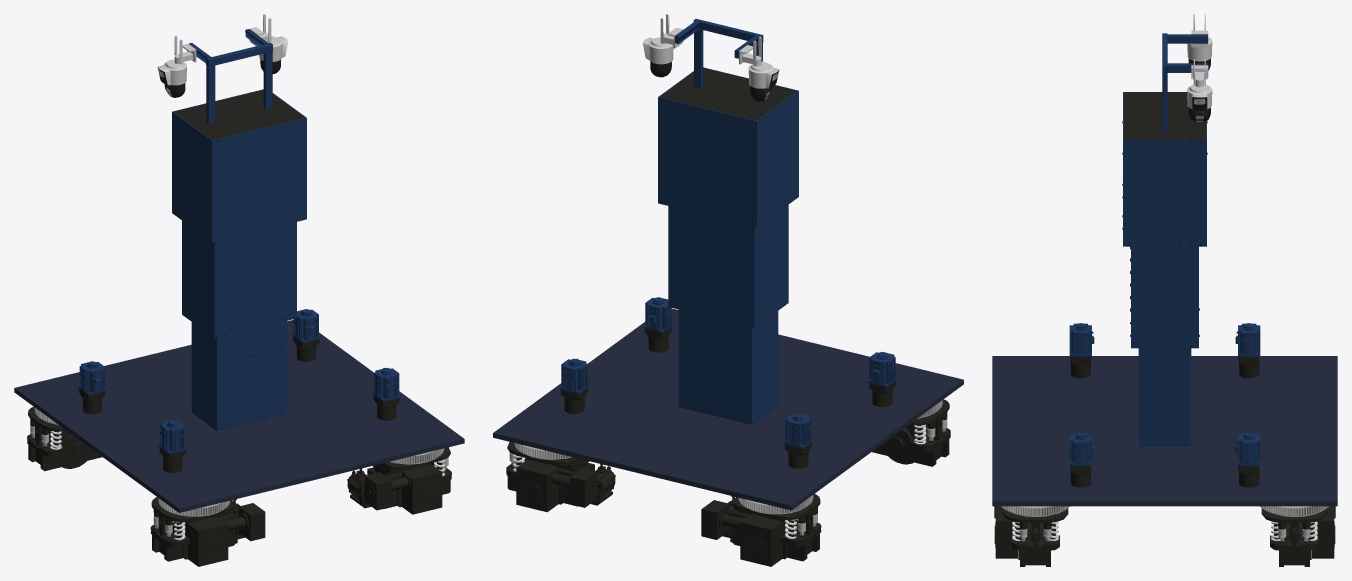
The model's file is mzz01-cq-explode.glb.
3 renders of one model, left to right at view 1: azimuth 30°, elevation 25°; view 2: azimuth 150°, elevation 25°; view 3: azimuth 270°, elevation 25°, orthographic. The views are drawn at different scales.
Visible parts, largest first — view 1: 底架_b20, MZZ01.CQ.02.03-13_纵向围板（顶节）_b1, MZZ01.CQ.02.02-25_横向围板（中间节）_b4, MZZ01.CQ.02.01-15_横向围板（底节）_b23, MZZ01.CQ.02.03-13_纵向围板（顶节）_b24, MZZ01.CQ.02.03-13_纵向围板（顶节）_b3, MZZ01.CQ.02.02-25_横向围板（中间节）_b1, MZZ01.CQ.02.01-15_横向围板（底节）_b3, 摄像头 (1)_b14, 镜向镜向减震舵轮装配体_b158, 镜向减震舵轮装配体_b158, 镜向减震舵轮装配体_b159 (+3 smaller); view 2: 底架_b20, MZZ01.CQ.02.03-13_纵向围板（顶节）_b2, MZZ01.CQ.02.02-26_纵向围板（中间节）_b1, MZZ01.CQ.02.01-5_中层板（底节箱体）_b1, MZZ01.CQ.02.03-13_纵向围板（顶节）_b24, MZZ01.CQ.02.02-25_横向围板（中间节）_b1, MZZ01.CQ.02.03-13_纵向围板（顶节）_b3, MZZ01.CQ.02.01-15_横向围板（底节）_b3, 镜向减震舵轮装配体#2_b158, 减震舵轮装配体_b156, 摄像头 (1)_b14, 减震舵轮装配体_b157 (+4 smaller); view 3: 底架_b20, MZZ01.CQ.02.03-13_纵向围板（顶节）#2_b21, MZZ01.CQ.02.02-26_纵向围板（中间节）_b3, MZZ01.CQ.02.01-15_横向围板（底节）_b2, MZZ01.CQ.02.03-13_纵向围板（顶节）_b3, 摄像头 (1)_b14, 减震舵轮装配体_b156, 镜向减震舵轮装配体_b158, 减震舵轮装配体_b158, 镜向减震舵轮装配体_b160, 减震舵轮装配体_b173, 镜向减震舵轮装配体_b175 (+4 smaller).
Boxes of the visible parts, x1,y1,x2,y2 form: 底架_b20: [14, 320, 464, 512]; MZZ01.CQ.02.03-13_纵向围板（顶节）_b1: [211, 117, 306, 241]; MZZ01.CQ.02.02-25_横向围板（中间节）_b4: [214, 222, 296, 338]; MZZ01.CQ.02.01-15_横向围板（底节）_b23: [216, 321, 287, 430]; MZZ01.CQ.02.03-13_纵向围板（顶节）_b24: [172, 111, 212, 242]; MZZ01.CQ.02.03-13_纵向围板（顶节）_b3: [174, 90, 304, 140]; MZZ01.CQ.02.02-25_横向围板（中间节）_b1: [182, 220, 215, 338]; MZZ01.CQ.02.01-15_横向围板（底节）_b3: [191, 322, 217, 430]; 摄像头 (1)_b14: [188, 29, 272, 123]; 镜向镜向减震舵轮装配体_b158: [187, 516, 228, 566]; 镜向减震舵轮装配体_b158: [402, 464, 442, 514]; 镜向减震舵轮装配体_b159: [360, 472, 391, 510]; 底架_b20: [493, 308, 963, 510]; MZZ01.CQ.02.03-13_纵向围板（顶节）_b2: [658, 97, 757, 227]; MZZ01.CQ.02.02-26_纵向围板（中间节）_b1: [668, 206, 754, 327]; MZZ01.CQ.02.01-5_中层板（底节箱体）_b1: [678, 309, 752, 424]; MZZ01.CQ.02.03-13_纵向围板（顶节）_b24: [756, 90, 798, 227]; MZZ01.CQ.02.02-25_横向围板（中间节）_b1: [753, 205, 788, 327]; MZZ01.CQ.02.03-13_纵向围板（顶节）_b3: [660, 68, 796, 120]; MZZ01.CQ.02.01-15_横向围板（底节）_b3: [751, 311, 778, 424]; 镜向减震舵轮装配体#2_b158: [740, 514, 782, 566]; 减震舵轮装配体_b156: [516, 459, 558, 512]; 摄像头 (1)_b14: [675, 18, 763, 102]; 减震舵轮装配体_b157: [569, 468, 602, 507]; 底架_b20: [992, 356, 1337, 506]; MZZ01.CQ.02.03-13_纵向围板（顶节）#2_b21: [1123, 140, 1206, 246]; MZZ01.CQ.02.02-26_纵向围板（中间节）_b3: [1131, 246, 1198, 348]; MZZ01.CQ.02.01-15_横向围板（底节）_b2: [1138, 348, 1191, 446]; MZZ01.CQ.02.03-13_纵向围板（顶节）_b3: [1124, 92, 1205, 139]; 摄像头 (1)_b14: [1162, 33, 1207, 132]; 减震舵轮装配体_b156: [1312, 506, 1335, 558]; 镜向减震舵轮装配体_b158: [994, 506, 1017, 558]; 减震舵轮装配体_b158: [1259, 506, 1328, 516]; 镜向减震舵轮装配体_b160: [1001, 506, 1070, 516]; 减震舵轮装配体_b173: [1261, 508, 1327, 522]; 镜向减震舵轮装配体_b175: [1002, 508, 1068, 522].
Bounding box in the file's own units: 2 × 2.99 × 2.
